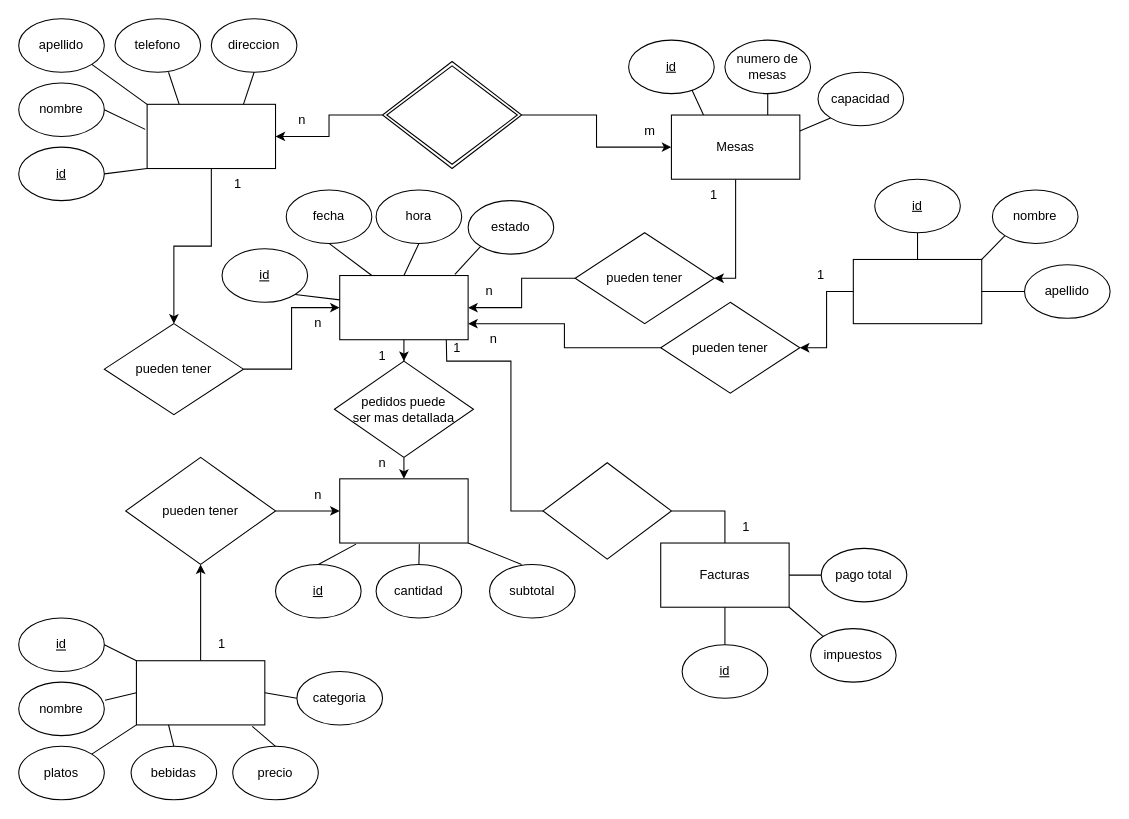
This 1129x819 diagram has some shape labels left out. The shapes that lost their labels are listed below. From the top down, each one's centre as x and y in pixels, then its label:
pixel 451 114: ambos pueden ser muchos
pixel 211 136: Clientes
pixel 403 307: Pedidos
pixel 917 291: Meseros
pixel 403 510: Detalles del Pedido
pixel 606 510: puede tener una
pixel 200 692: Menu
